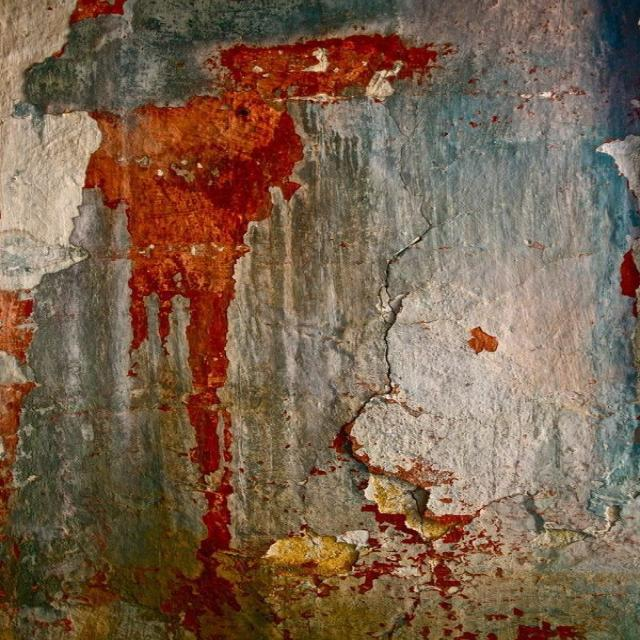Uniform Corrosion: (85, 36, 434, 481)
